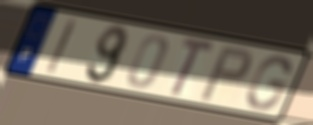0: (125, 34, 170, 90)
9: (83, 23, 129, 86)
G: (245, 54, 293, 111)
I: (44, 17, 81, 76)
P: (197, 45, 255, 103)
T: (167, 34, 219, 99)
